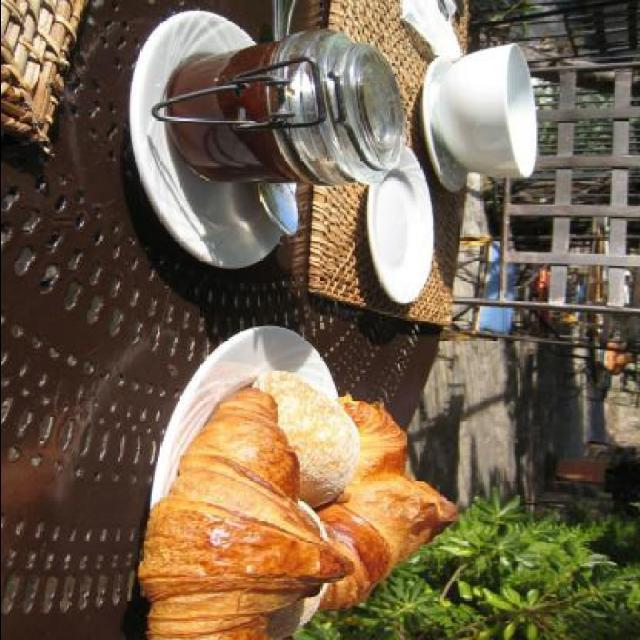Croissant: (133, 387, 350, 639), (314, 392, 462, 614)
